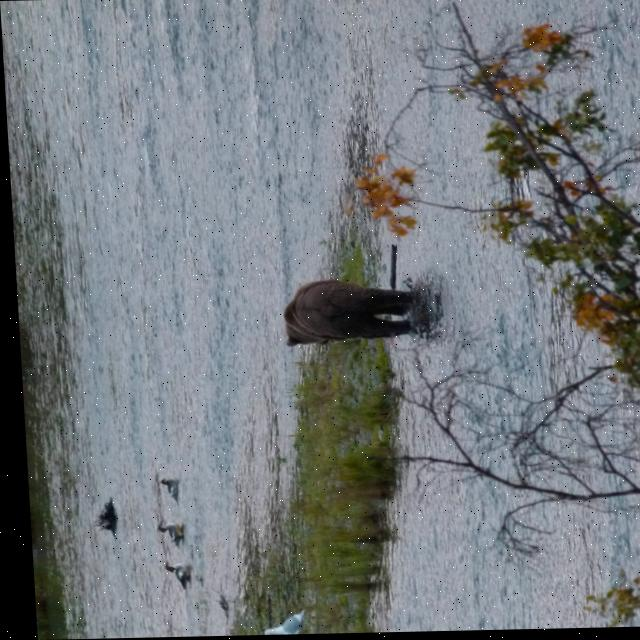bear face: (276, 281, 409, 348)
